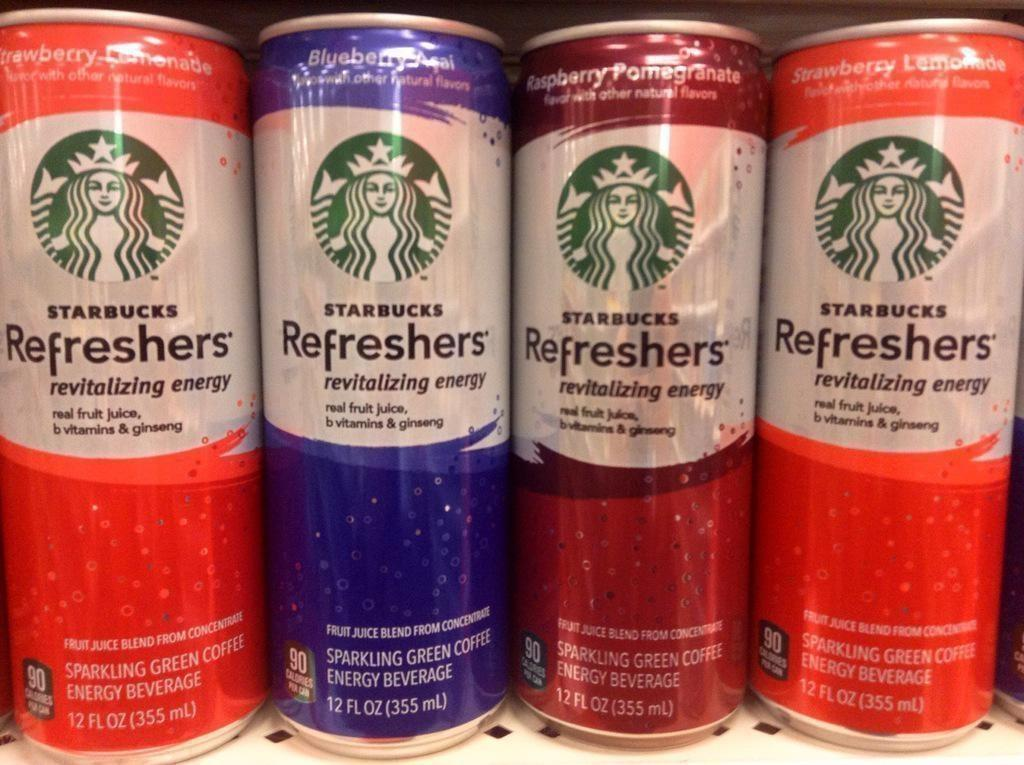tin can: (2, 9, 271, 765), (246, 14, 514, 761), (762, 19, 1024, 753), (516, 22, 778, 753)
